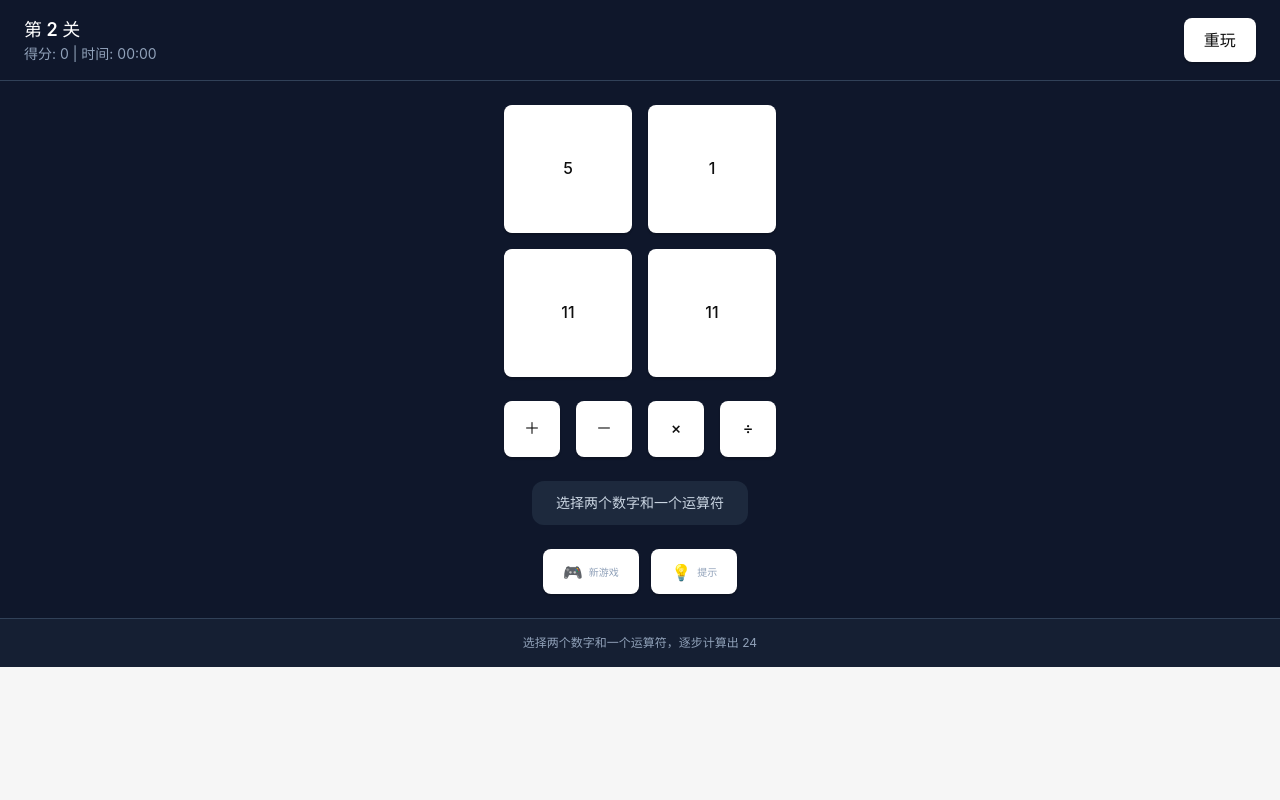
Test case: TwentyFourGame › can reset game
This screenshot has width=1280, height=800.
Click the button "重玩" at (1220, 40), box [1184,18,1256,62]
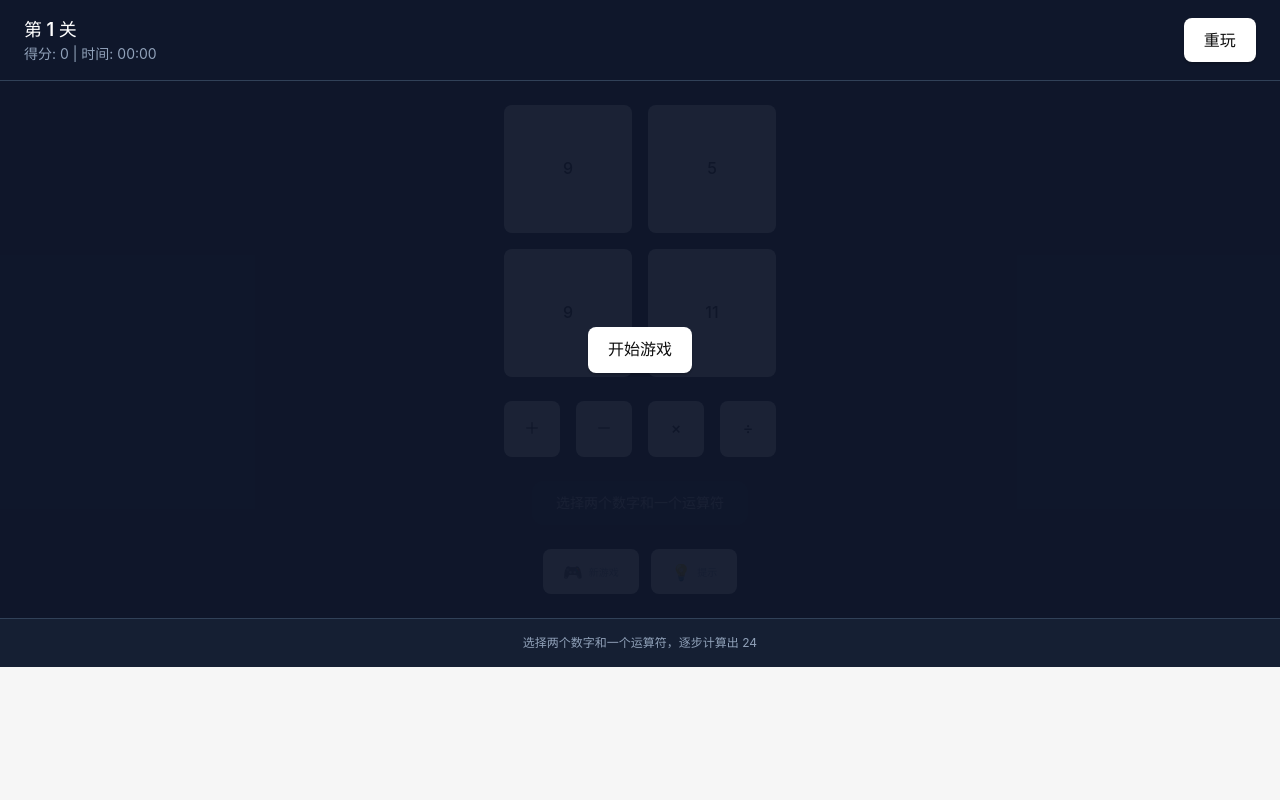
Expected: the heading "第 1 关" is shown, [24,19,77,40]
